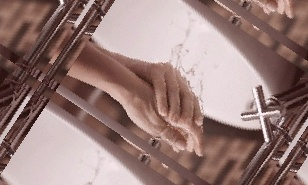washing hand: (114, 41, 247, 172)
